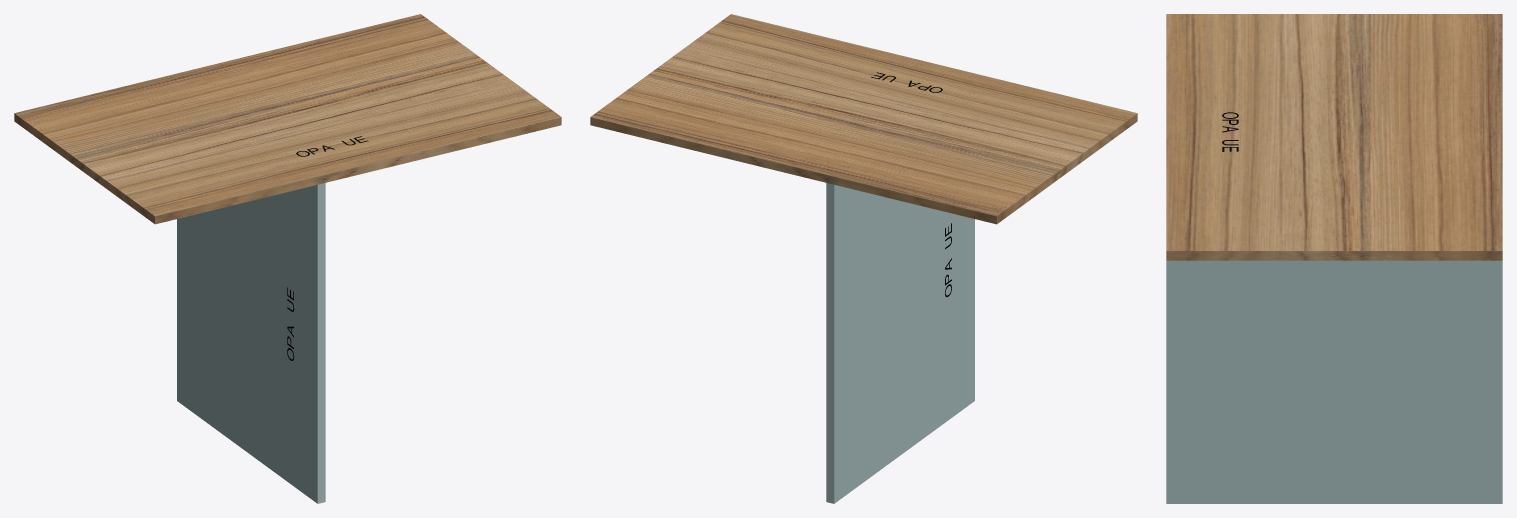
Rendered from twoParts-opaque.glb.
3 views of the same model, side by side, from view 1: azimuth 30°, elevation 25°; view 2: azimuth 150°, elevation 25°; view 3: azimuth 270°, elevation 25° (orthographic). The views are drawn at different scales.
Parts seen in each view (by area): view 1: {7B4B02F7-CE7F-4729-991D-CC4194194775}_Node, {68912636-E904-455a-9371-1124BF7577C2}_Node; view 2: {7B4B02F7-CE7F-4729-991D-CC4194194775}_Node, {68912636-E904-455a-9371-1124BF7577C2}_Node; view 3: {7B4B02F7-CE7F-4729-991D-CC4194194775}_Node, {68912636-E904-455a-9371-1124BF7577C2}_Node.
Part boxes in pixels (bbox=[...]): {7B4B02F7-CE7F-4729-991D-CC4194194775}_Node: bbox=[14, 14, 561, 224]; {68912636-E904-455a-9371-1124BF7577C2}_Node: bbox=[177, 183, 325, 503]; {7B4B02F7-CE7F-4729-991D-CC4194194775}_Node: bbox=[590, 14, 1137, 224]; {68912636-E904-455a-9371-1124BF7577C2}_Node: bbox=[826, 183, 974, 503]; {7B4B02F7-CE7F-4729-991D-CC4194194775}_Node: bbox=[1166, 14, 1502, 260]; {68912636-E904-455a-9371-1124BF7577C2}_Node: bbox=[1166, 260, 1502, 503].
Bounding box in the file's own units: 1 × 0.7695 × 0.6.
Materials: 4 (1 with a texture image).
